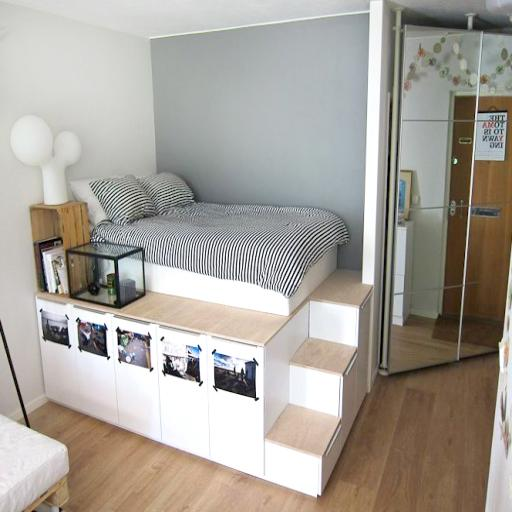bed: (69, 172, 349, 316)
sofa: (0, 412, 69, 512)
